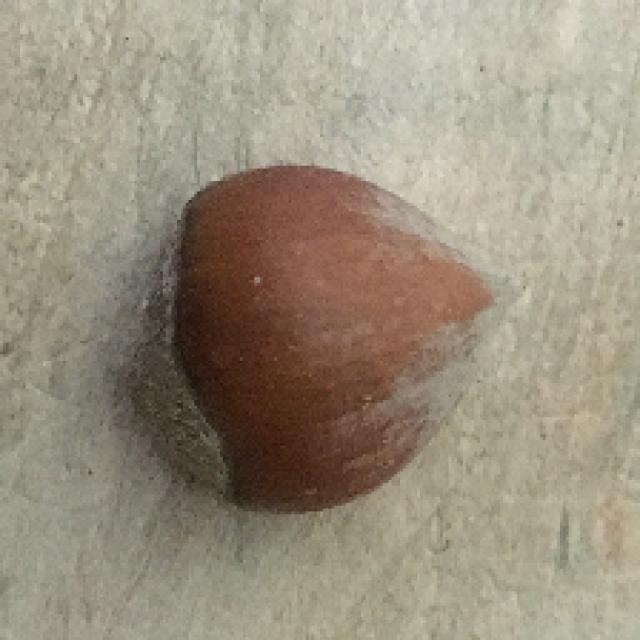qualityHazelnut: (128, 159, 508, 512)
